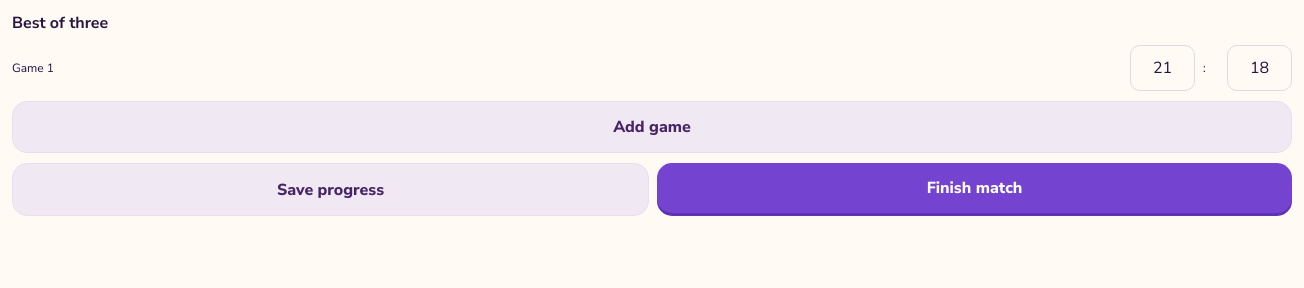
Test case: Best of three entry › keeps an incomplete series editable and refreshes stale results
Click the button "Finish match": [974, 188] box x1=657 y1=163 x2=1292 y2=213
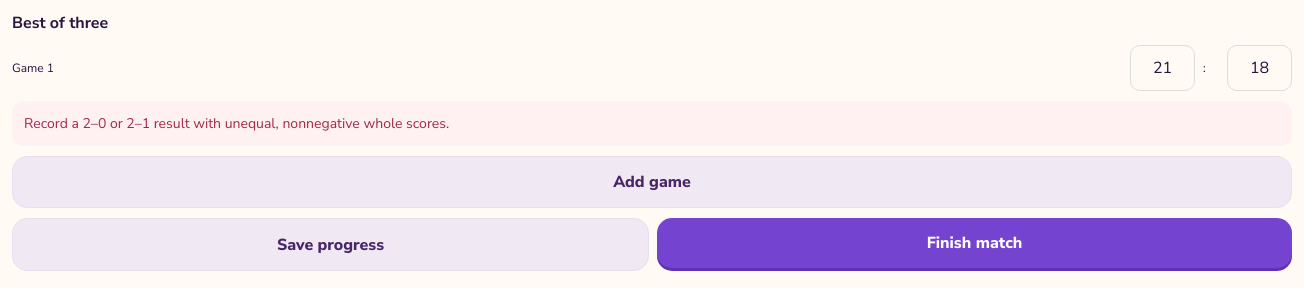
expect the text "Record a 2–0 or 2–1 result" is shown: met, box x1=24 y1=114 x2=449 y2=133
Click the button "Save progress": [330, 244] box x1=12 y1=218 x2=649 y2=271
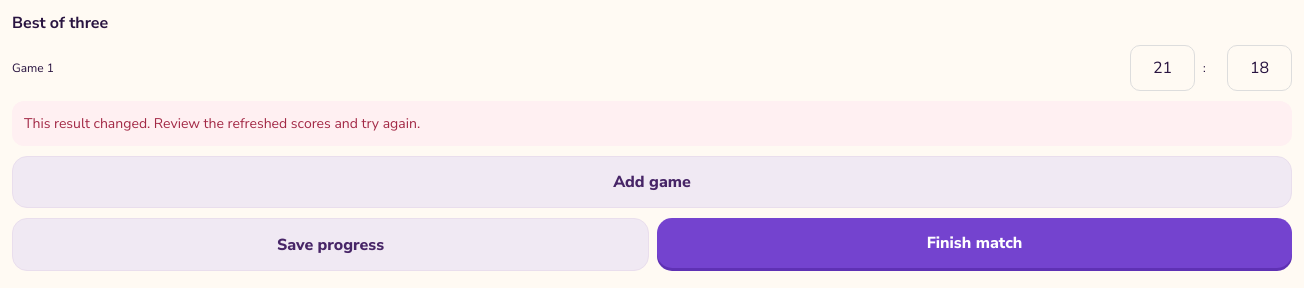
expect the text "Review the refreshed scores" is shown: met, box x1=24 y1=114 x2=420 y2=133
